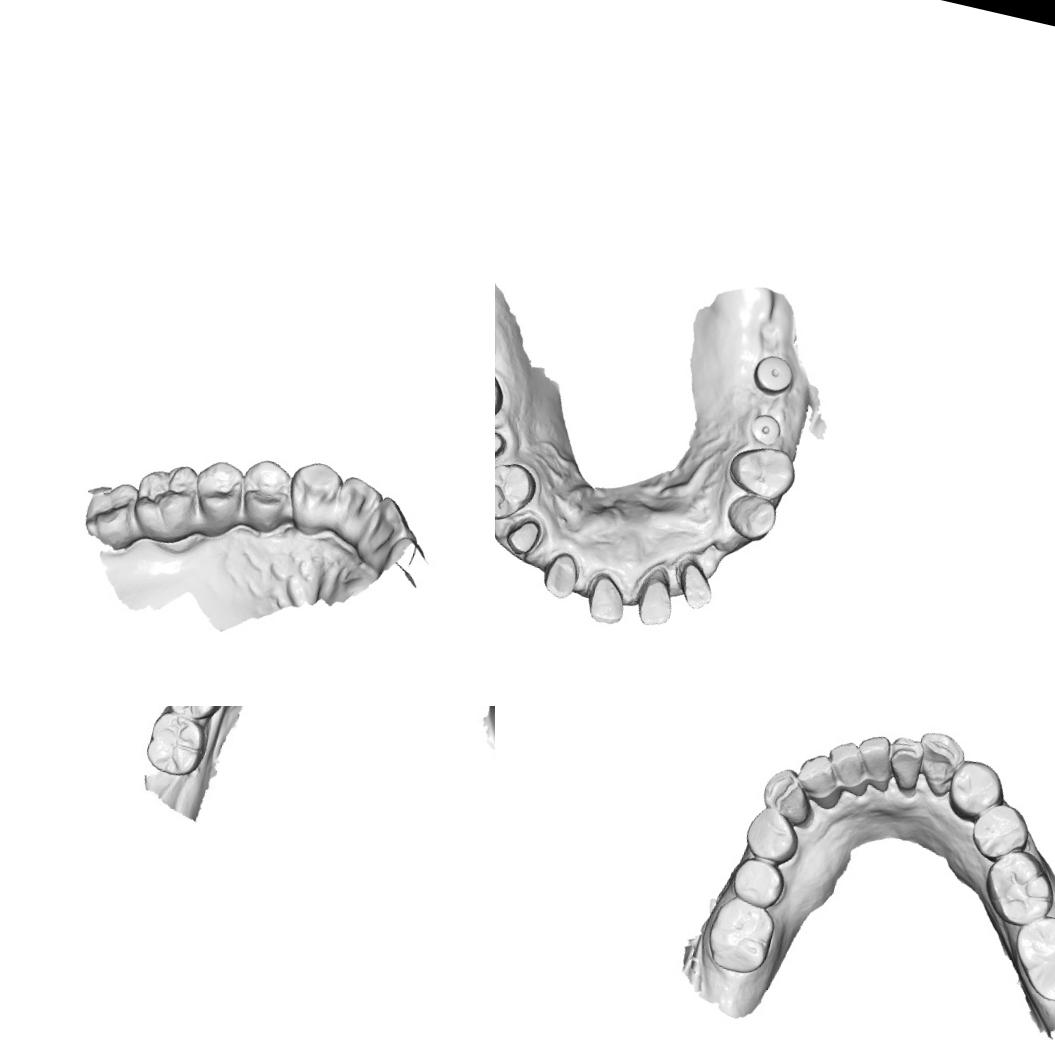canine: (278, 454, 348, 538), (907, 726, 968, 799), (756, 763, 820, 828), (720, 488, 781, 546)
crown: (582, 568, 634, 630), (630, 571, 680, 633), (670, 557, 720, 614), (538, 546, 584, 605), (501, 513, 545, 560), (495, 422, 510, 473)
implant: (748, 350, 799, 400), (745, 410, 786, 450)
incisor: (352, 489, 414, 574), (328, 472, 386, 546), (788, 747, 848, 808), (818, 735, 876, 795), (878, 733, 931, 795), (848, 729, 900, 792)
molar: (125, 454, 211, 552), (700, 892, 780, 980), (978, 844, 1055, 932), (78, 473, 148, 555), (137, 706, 212, 781), (1004, 909, 1055, 1010), (157, 706, 233, 725)
premolar: (230, 453, 299, 538), (722, 438, 801, 506), (186, 454, 252, 532), (965, 794, 1035, 866), (941, 756, 1010, 828), (740, 804, 805, 870), (495, 453, 542, 530), (728, 853, 786, 915)
